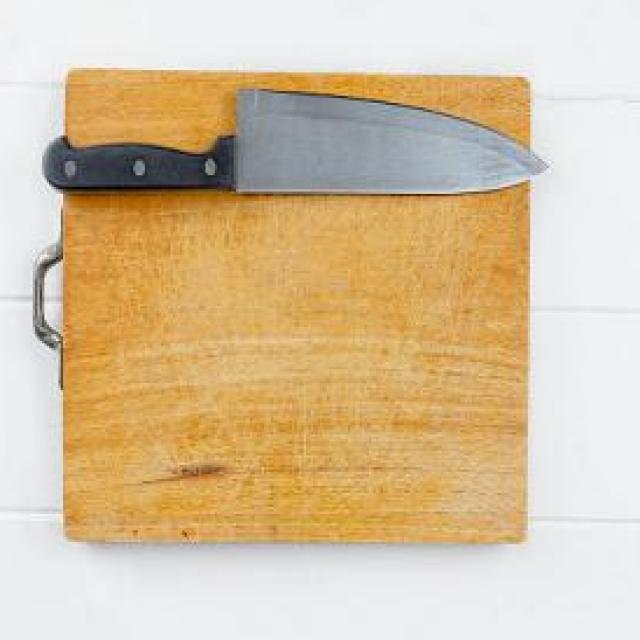knife: (38, 85, 549, 194)
